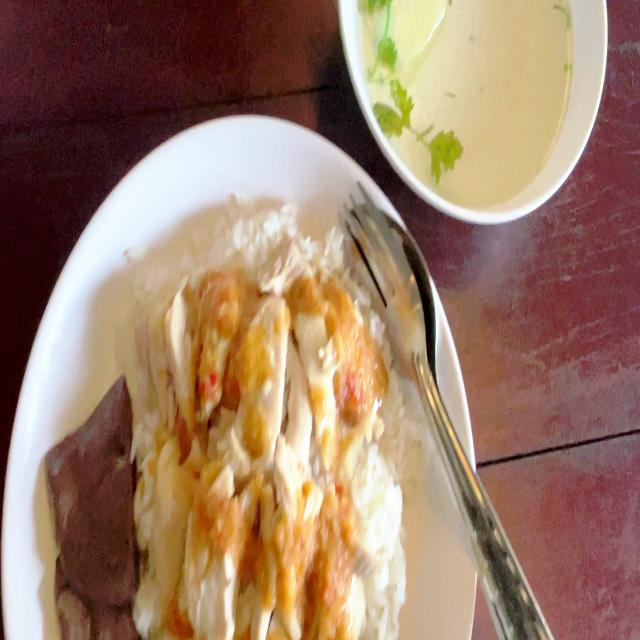boiled_chicken: (153, 292, 360, 614)
boiled_chicken_blood_jelly: (51, 382, 141, 605), (50, 556, 140, 639)
chicken_rice: (48, 209, 410, 640)
